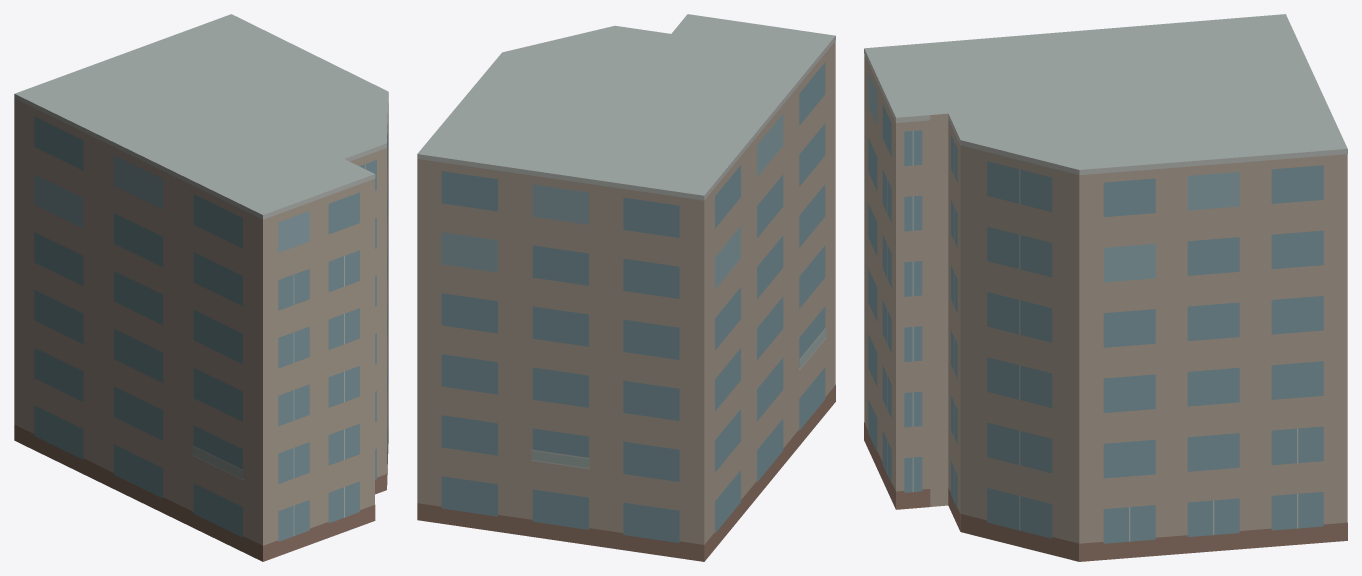
File: survey-upis-32708963.glb
3 views of the same model, side by side, from view 1: azimuth 30°, elevation 25°; view 2: azimuth 150°, elevation 25°; view 3: azimuth 270°, elevation 25° (orthographic). The views are drawn at different scales.
Parts seen in each view (by area): view 1: survey-upis-32708963.tmp; view 2: survey-upis-32708963.tmp; view 3: survey-upis-32708963.tmp.
Part boxes in pixels (<box>): survey-upis-32708963.tmp: <box>14,14,388,561</box>; survey-upis-32708963.tmp: <box>417,14,835,561</box>; survey-upis-32708963.tmp: <box>864,14,1347,561</box>.
Size of the model in its own units: 15.63 by 18.3 by 20.48.
